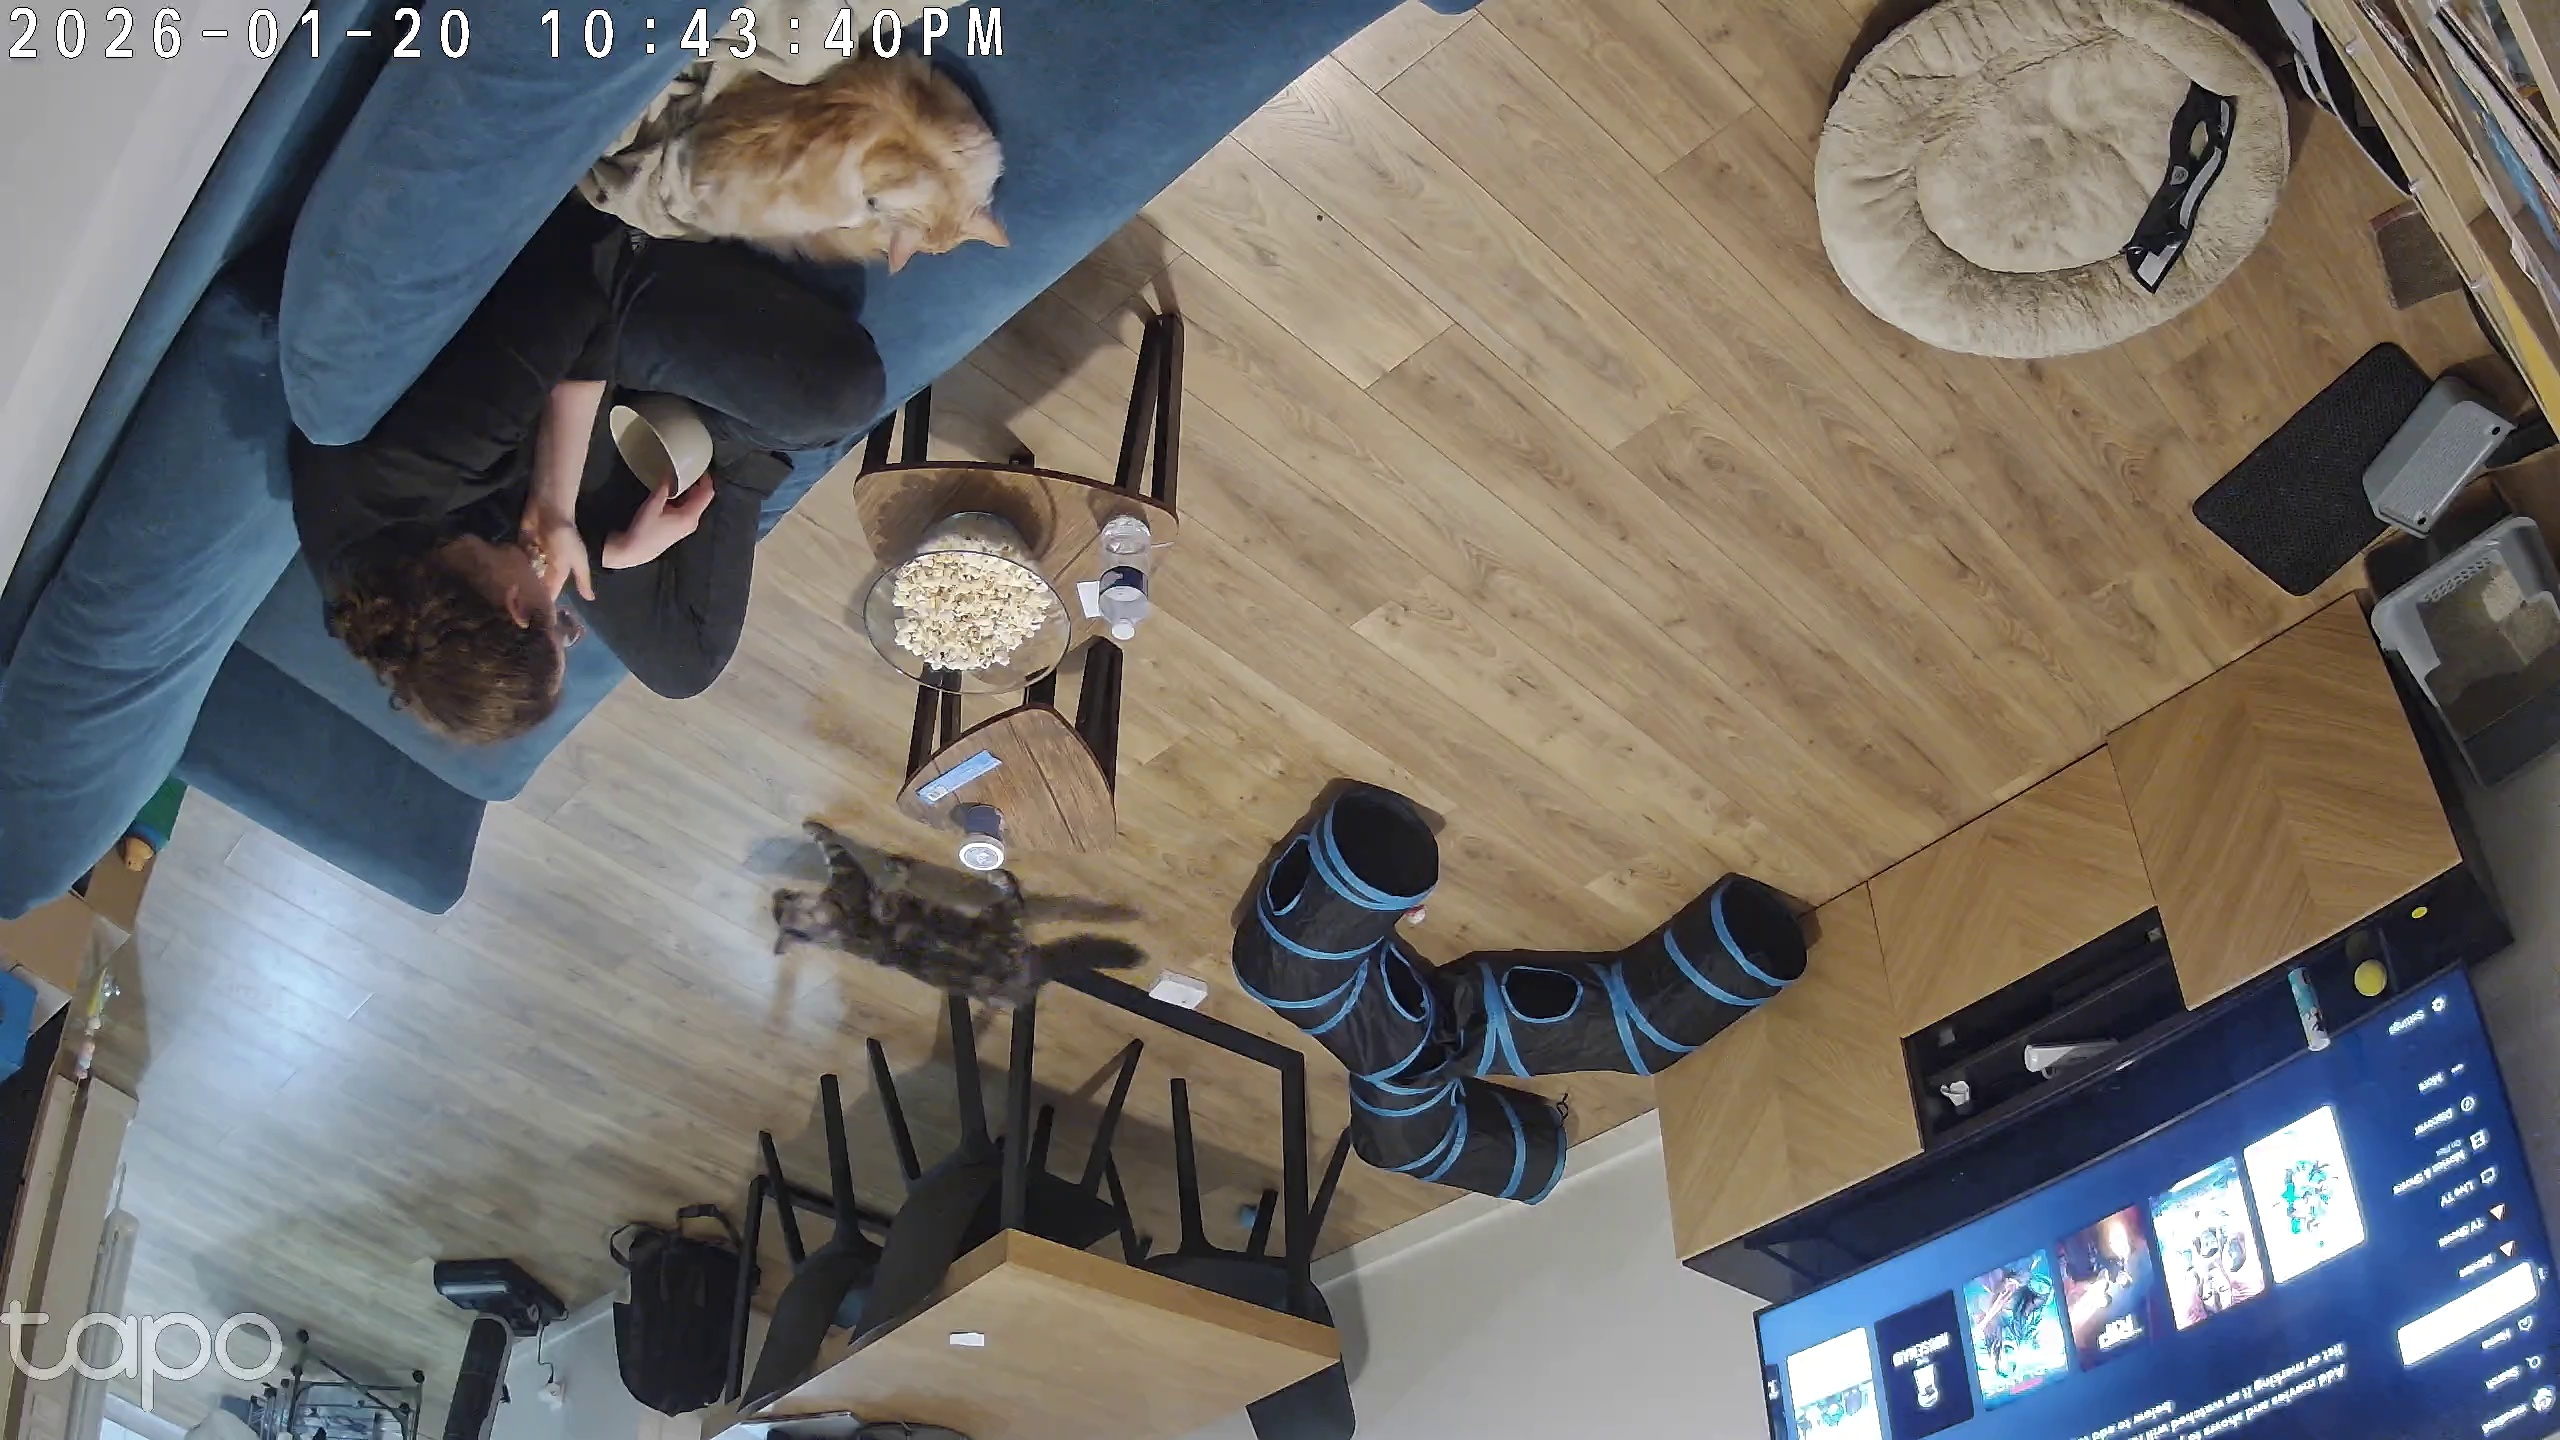Nala: (760, 791, 1145, 1041)
Simba: (596, 42, 1032, 292)
